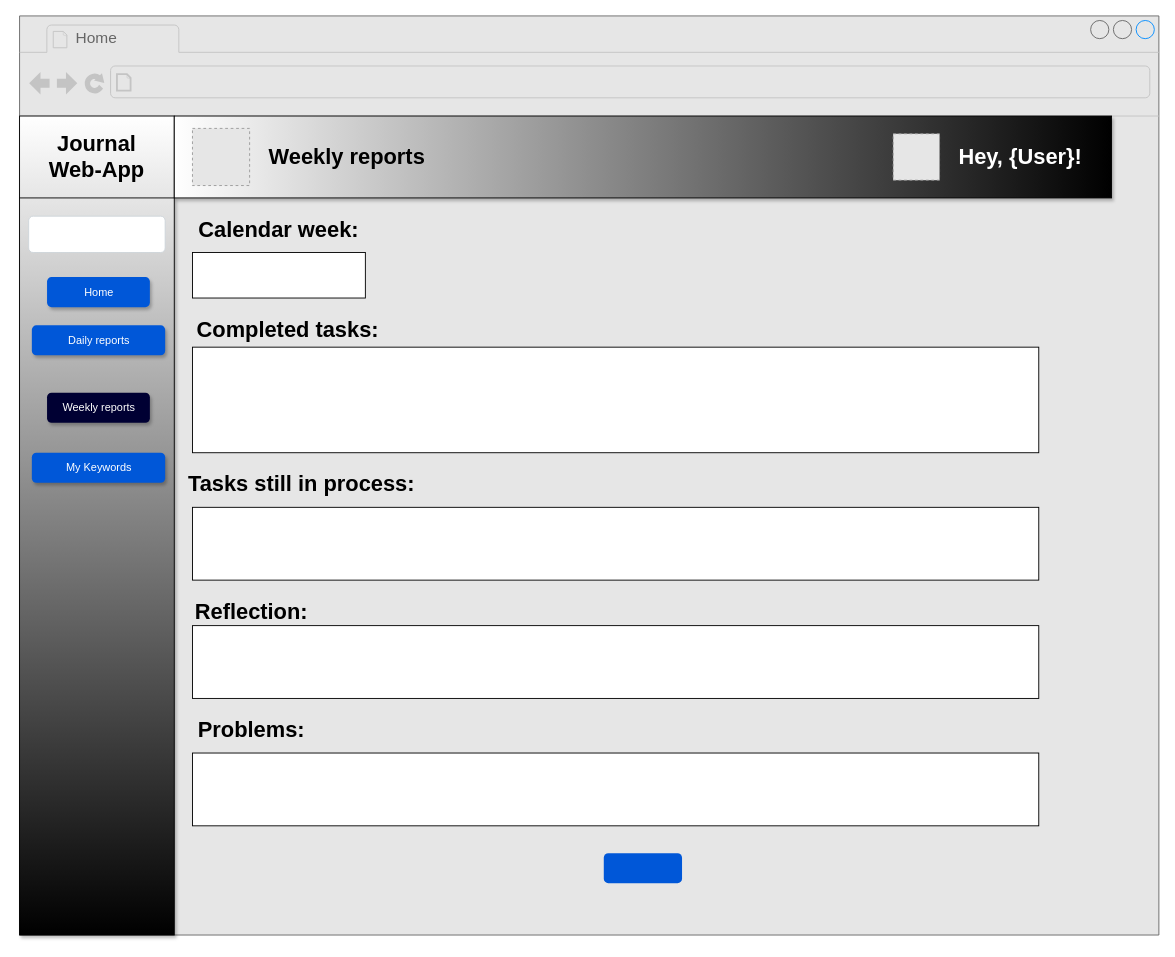
Some shapes in this 1175 by 957 pixel diagram are drawn without their labels. Grey dashed boxes stand in for pictures. Here are the shapes that lost their labels. From the top down, the centre of each, then its label:
the point at 251,82: https://journal.com
the point at 96,234: Search
the point at 642,868: Save
